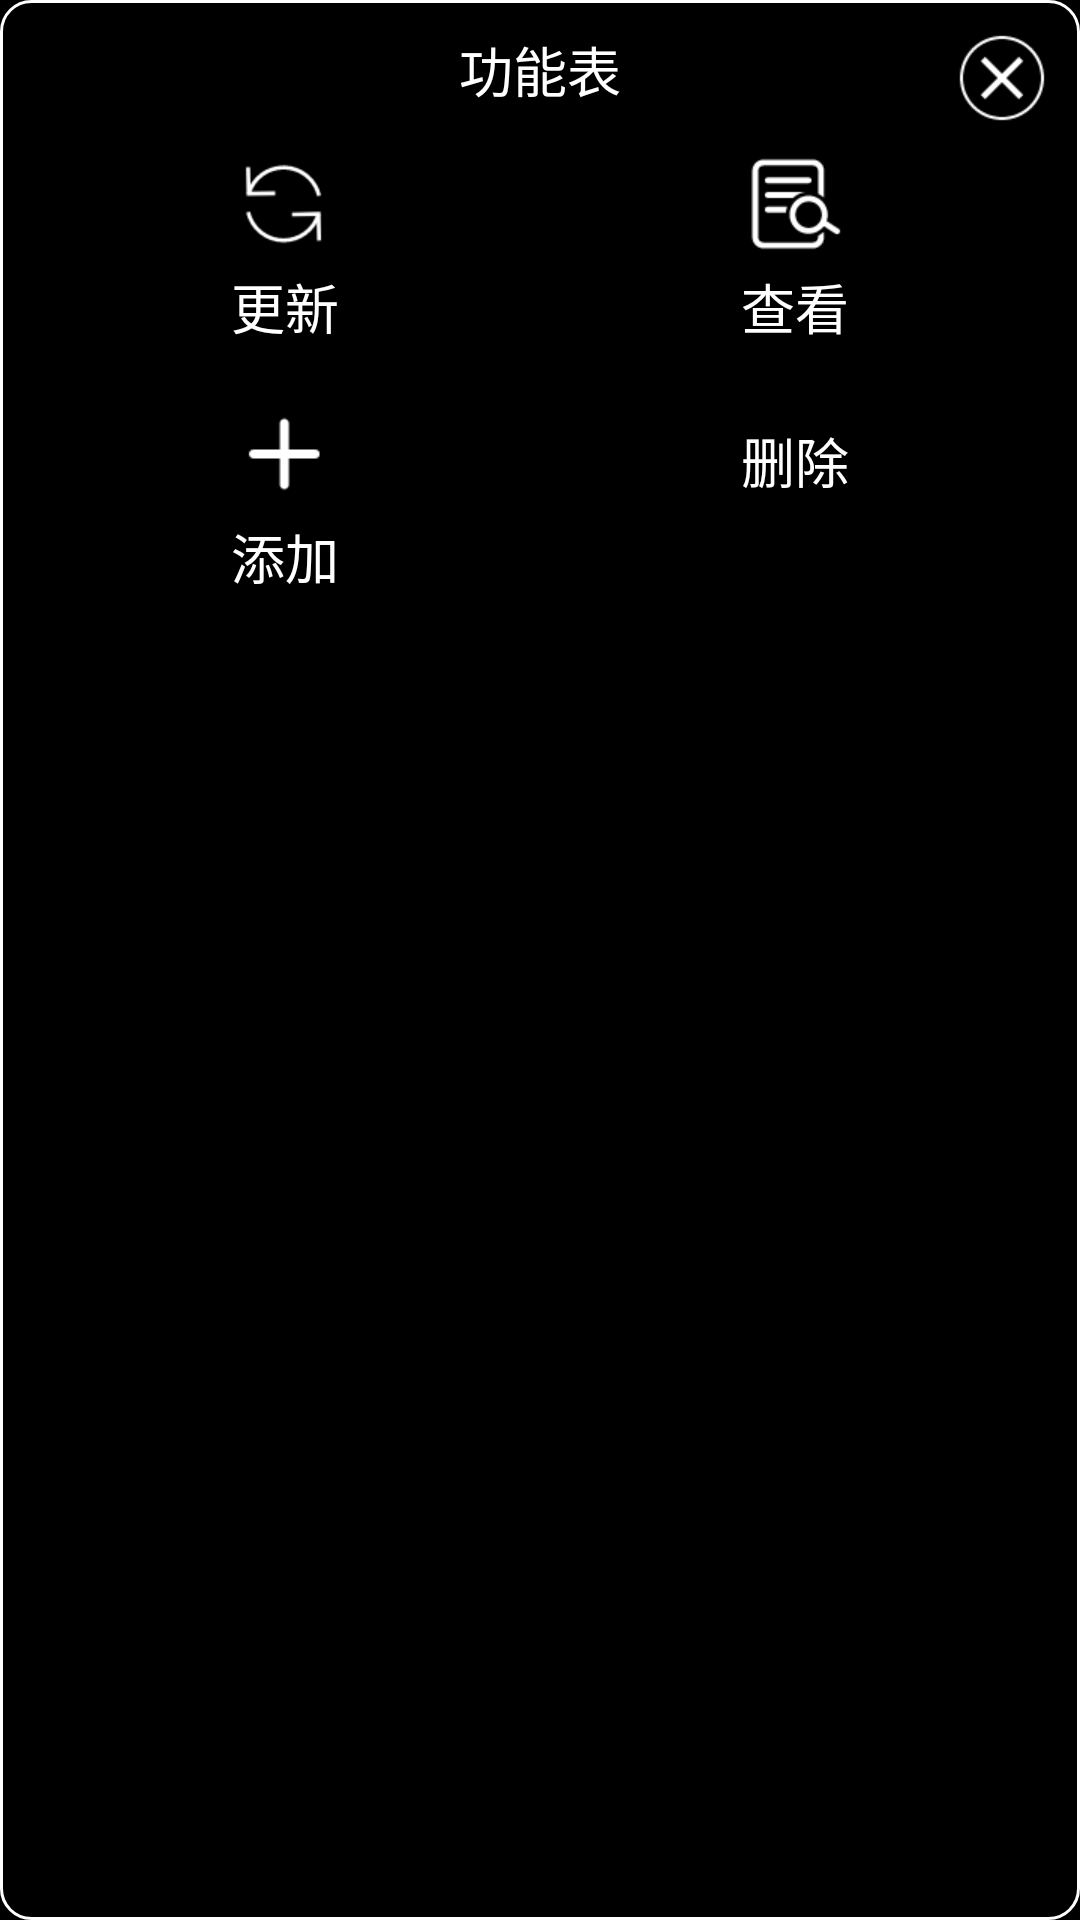

Where icons sit on this 1080w x 1920h app screen, as [left=x1, top=y1, right=x2, bottom=y2]:
close: [left=959, top=35, right=1045, bottom=121]
